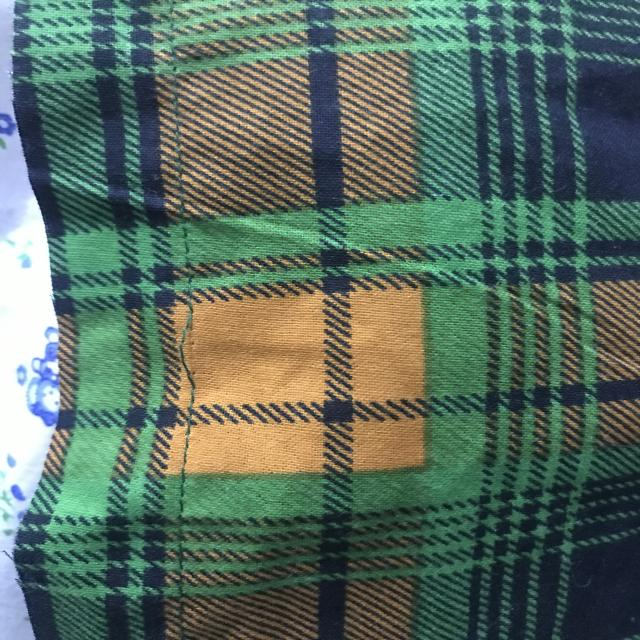good: (167, 423, 210, 524)
skip: (160, 302, 216, 395)
